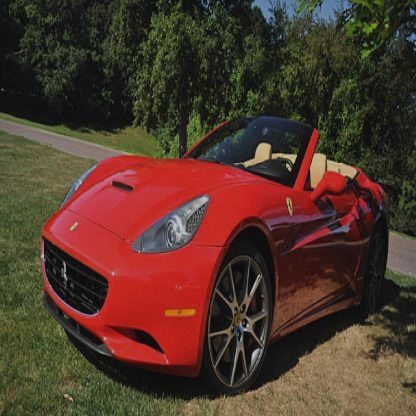Vehicle: (42, 116, 391, 396)
